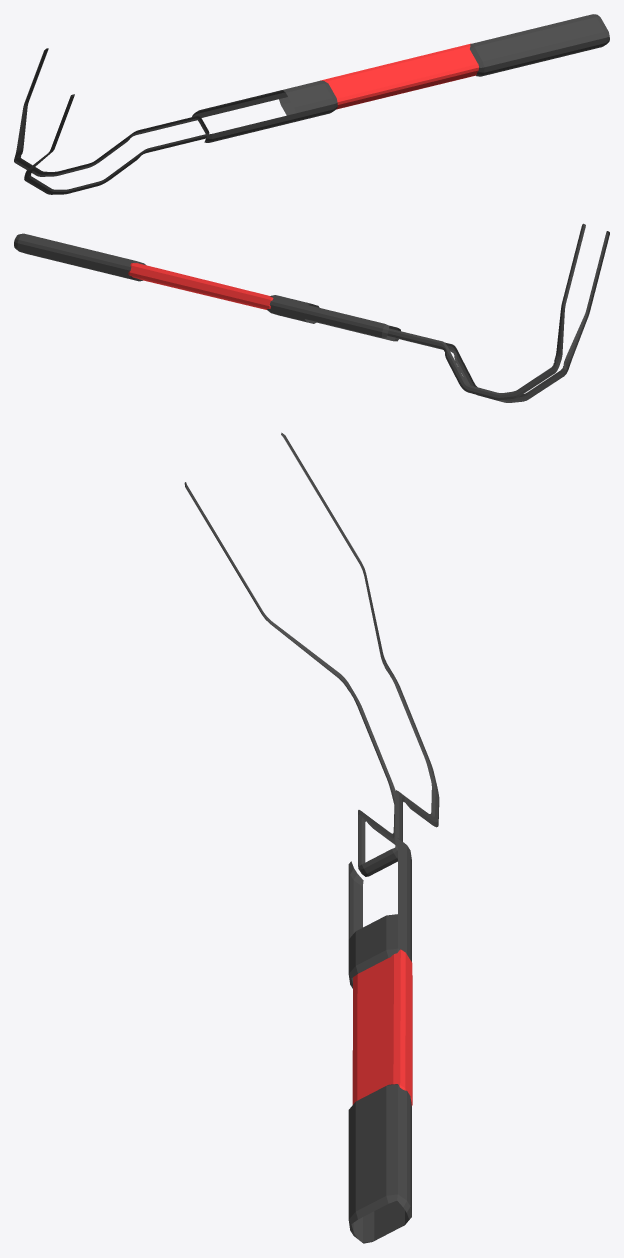
Rendered from crowbar.obj.
3 renders of one model, top to bottom at view 1: azimuth 30°, elevation 25°; view 2: azimuth 150°, elevation 25°; view 3: azimuth 270°, elevation 25°, orthographic. The views are drawn at different scales.
Parts seen in each view (by area): view 1: cube.010, cube.002, cube.007; view 2: cube.010, cube.007, cube.002; view 3: cube.010, cube.002, cube.007.
Boxes of the visible parts, box(x1,y1,x2,y2) form: cube.010: box(192, 14, 609, 142); cube.002: box(320, 43, 478, 109); cube.007: box(14, 48, 209, 194); cube.010: box(14, 233, 400, 341); cube.007: box(387, 223, 609, 402); cube.002: box(128, 263, 273, 309); cube.010: box(348, 838, 411, 1243); cube.002: box(352, 949, 412, 1105); cube.007: box(184, 432, 439, 876).
Size of the model in its own units: 3.49 by 1.03 by 0.7071.
